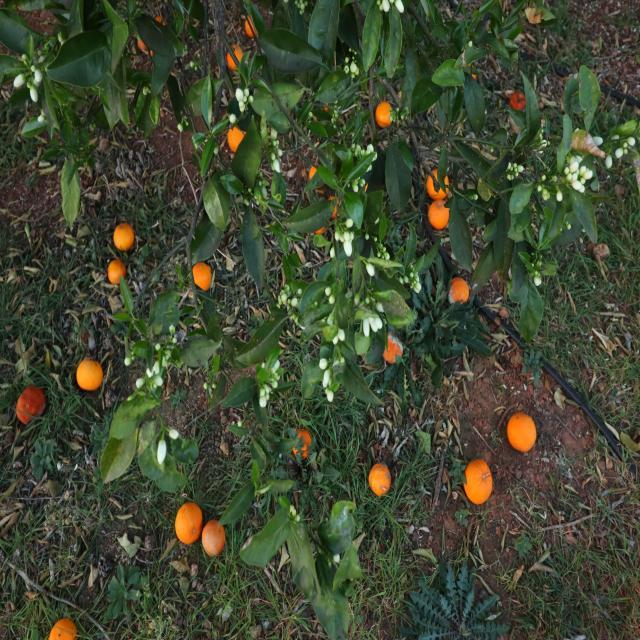Bunga: (564, 159, 579, 187), (570, 176, 588, 194), (332, 228, 355, 242), (27, 80, 41, 102), (156, 439, 168, 463), (623, 134, 636, 156), (578, 166, 594, 182), (390, 0, 406, 16), (12, 71, 26, 89), (270, 152, 281, 173), (271, 361, 280, 386), (371, 315, 384, 332), (237, 88, 246, 110), (31, 64, 42, 82), (322, 369, 332, 388), (378, 0, 389, 15), (366, 262, 376, 278), (278, 290, 288, 306), (161, 350, 171, 366), (332, 330, 344, 343), (260, 389, 268, 408), (271, 128, 279, 147), (124, 351, 134, 366), (318, 358, 330, 370), (362, 320, 371, 336), (326, 286, 334, 304), (342, 242, 352, 256), (605, 153, 613, 168), (168, 430, 180, 440), (244, 90, 254, 102), (352, 178, 360, 192), (350, 60, 358, 74), (592, 135, 602, 146), (415, 275, 421, 293), (325, 389, 333, 402), (136, 376, 144, 389), (153, 376, 163, 386), (616, 148, 624, 160), (556, 190, 564, 202), (542, 189, 550, 201), (534, 275, 542, 286), (276, 146, 283, 158), (154, 360, 160, 374), (366, 144, 374, 154), (290, 297, 298, 307), (264, 384, 272, 394), (146, 367, 154, 377), (346, 218, 353, 228), (329, 246, 336, 256), (401, 274, 408, 284), (169, 324, 176, 334), (230, 114, 237, 124), (284, 284, 290, 294), (507, 162, 513, 172), (516, 165, 524, 172), (506, 173, 514, 180), (540, 140, 548, 147), (539, 129, 544, 139), (514, 164, 518, 176), (536, 184, 542, 192), (297, 287, 302, 296), (204, 382, 208, 390), (156, 344, 160, 351), (542, 175, 546, 182), (212, 383, 216, 388)
Jeruk Sudah Matang: (464, 456, 494, 506), (508, 412, 537, 454), (175, 502, 203, 545), (202, 520, 226, 557), (77, 358, 103, 391), (370, 462, 392, 498), (427, 168, 449, 200), (428, 200, 451, 230), (49, 618, 78, 640), (192, 261, 212, 291), (450, 276, 469, 307), (114, 224, 135, 252), (228, 125, 245, 154), (108, 259, 126, 285), (376, 102, 392, 128), (384, 341, 402, 364), (226, 44, 243, 68), (244, 15, 256, 38)
